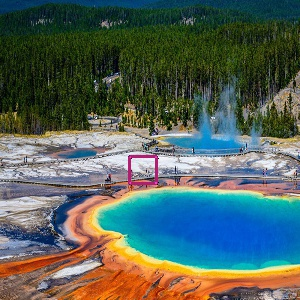square: (127, 153, 160, 186)
